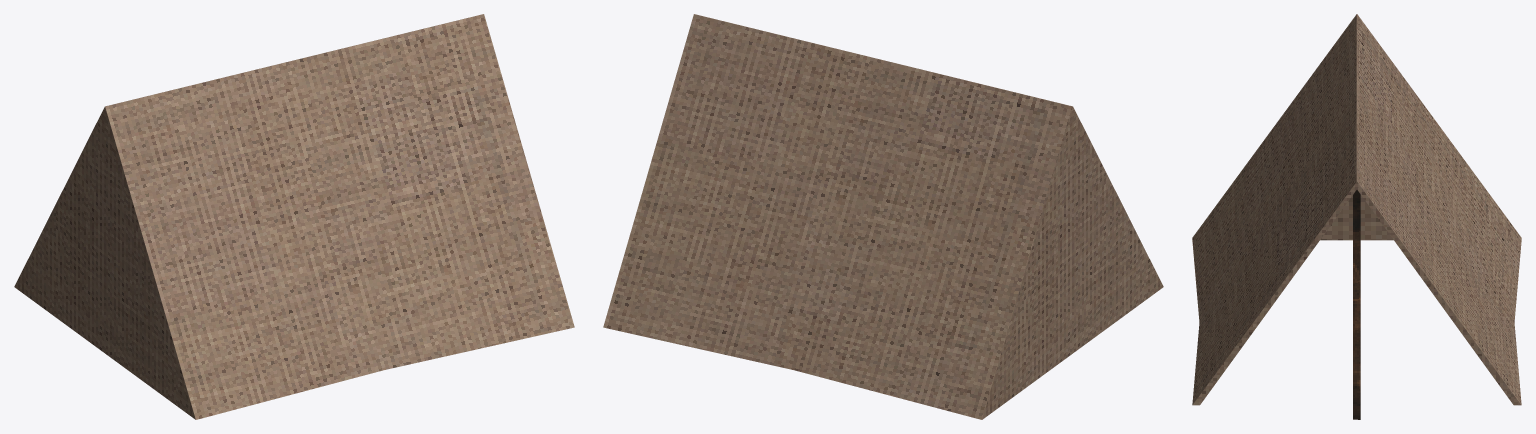
The model's file is Tent.glb.
3 views of the same model, side by side, from view 1: azimuth 30°, elevation 25°; view 2: azimuth 150°, elevation 25°; view 3: azimuth 270°, elevation 25° (orthographic). The views are drawn at different scales.
Parts seen in each view (by area): view 1: Cube; view 2: Cube; view 3: Cube.
Part boxes in pixels (bbox=[...]): Cube: bbox=[14, 14, 574, 419]; Cube: bbox=[603, 14, 1163, 419]; Cube: bbox=[1192, 14, 1521, 419].
Bounding box in the file's own units: 6.58 × 4.38 × 5.47.
2 materials, 2 textured.
